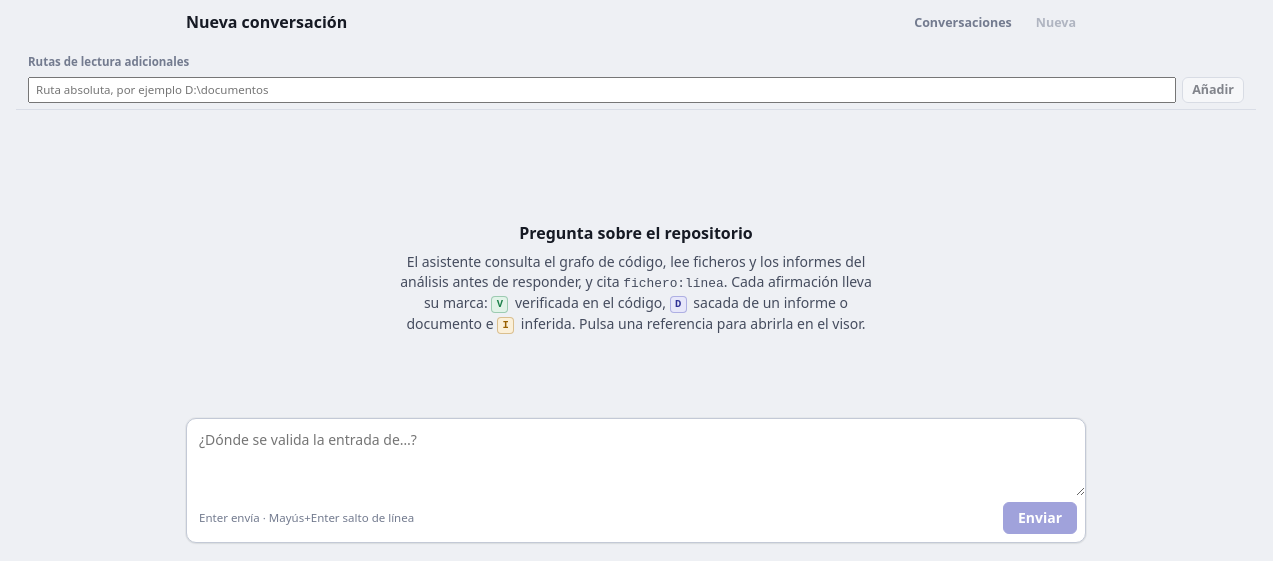
Scenario: Chat en streaming › «Parar» aborta el fetch del turno y lo marca como parado
Type "Pregunta larga" into the text box named "Pregunta" at point(636, 458), box [187,419,1085,496]
Then press Enter
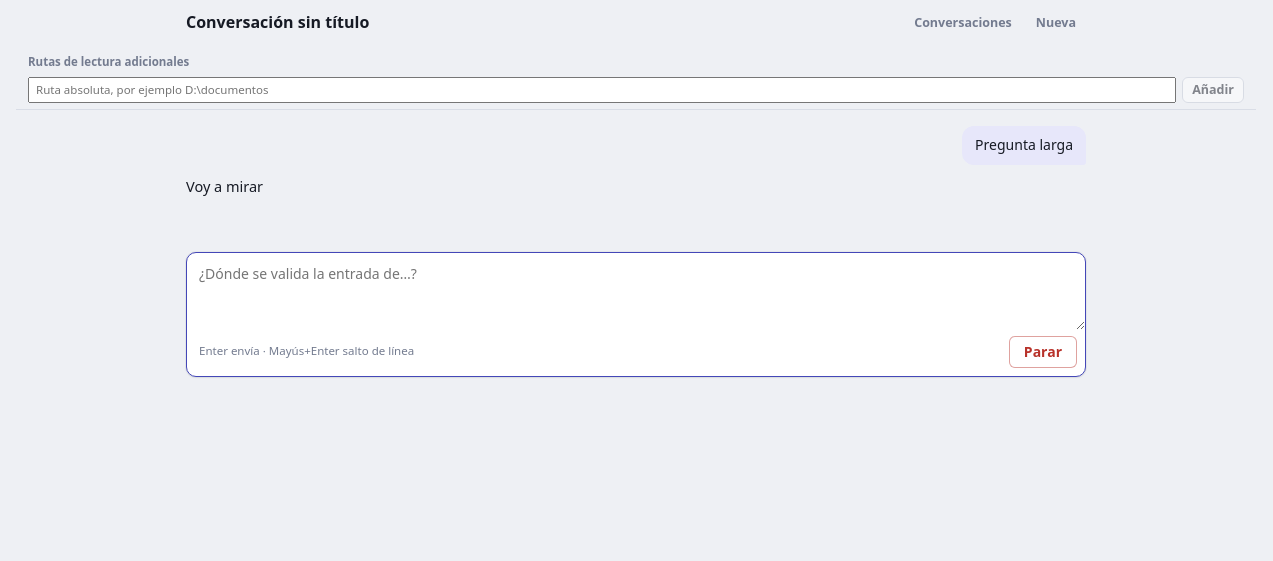
Expected: the text "Voy a mirar" is shown, [186,176,263,196]
Click the button "Parar" at point(1043, 352), box [1009,336,1077,368]
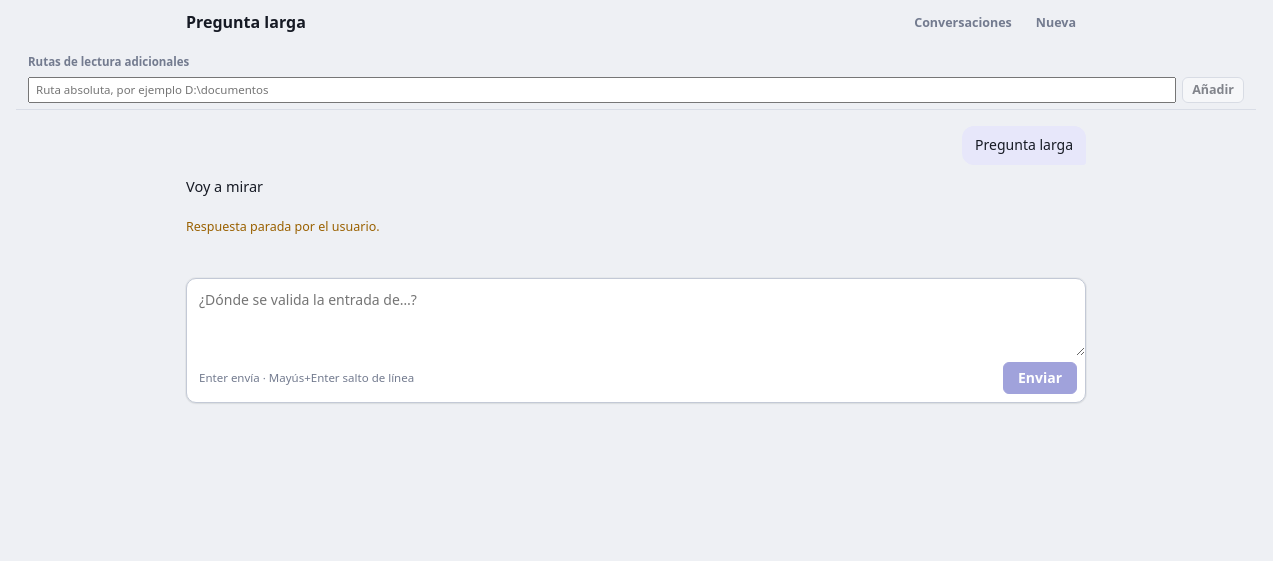
Expected: the text "Respuesta parada por el usuario." is shown, [186,218,380,235]
Expected: the button "Enviar" is shown, [1003,362,1077,394]
